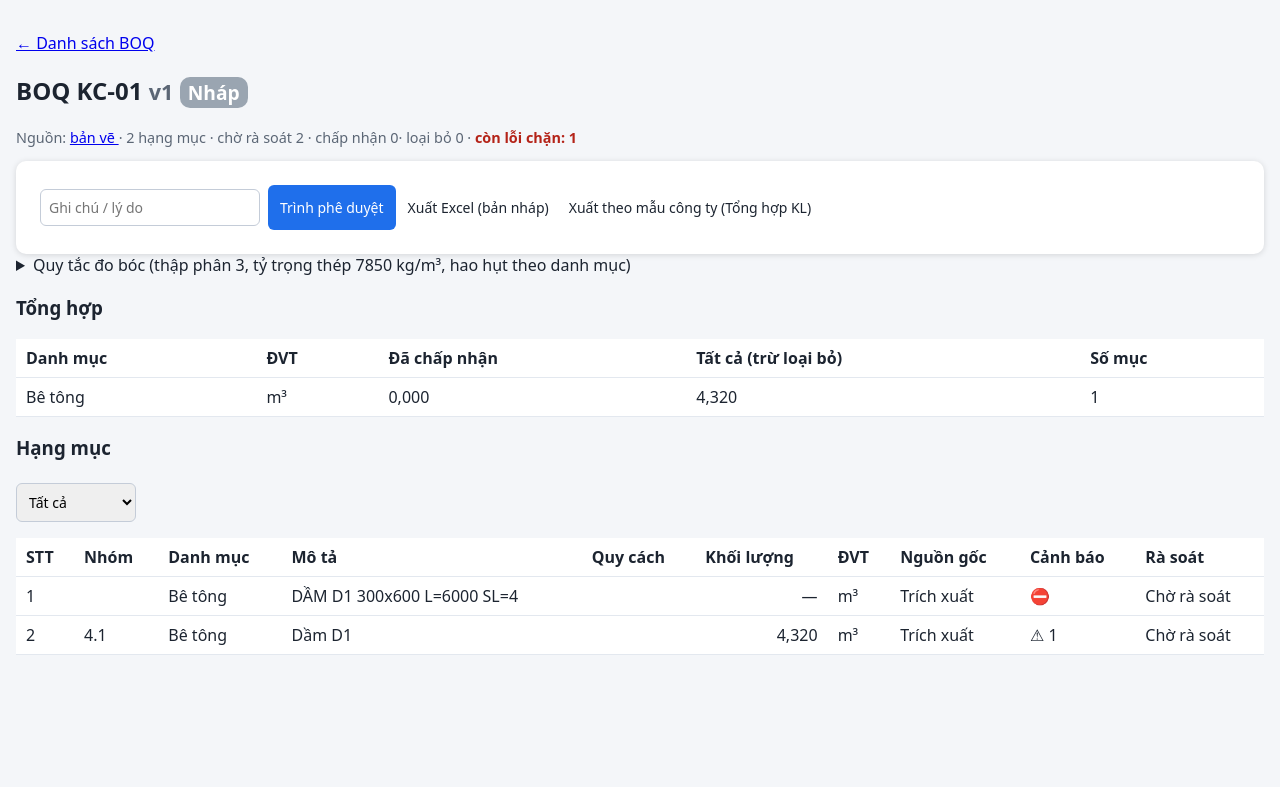
BOQ review › blocks accepting an item with blocking flags and links to the source region
Click the row named "Hạng mục 1". click: (640, 596)
box: left=16, top=577, right=1264, bottom=616
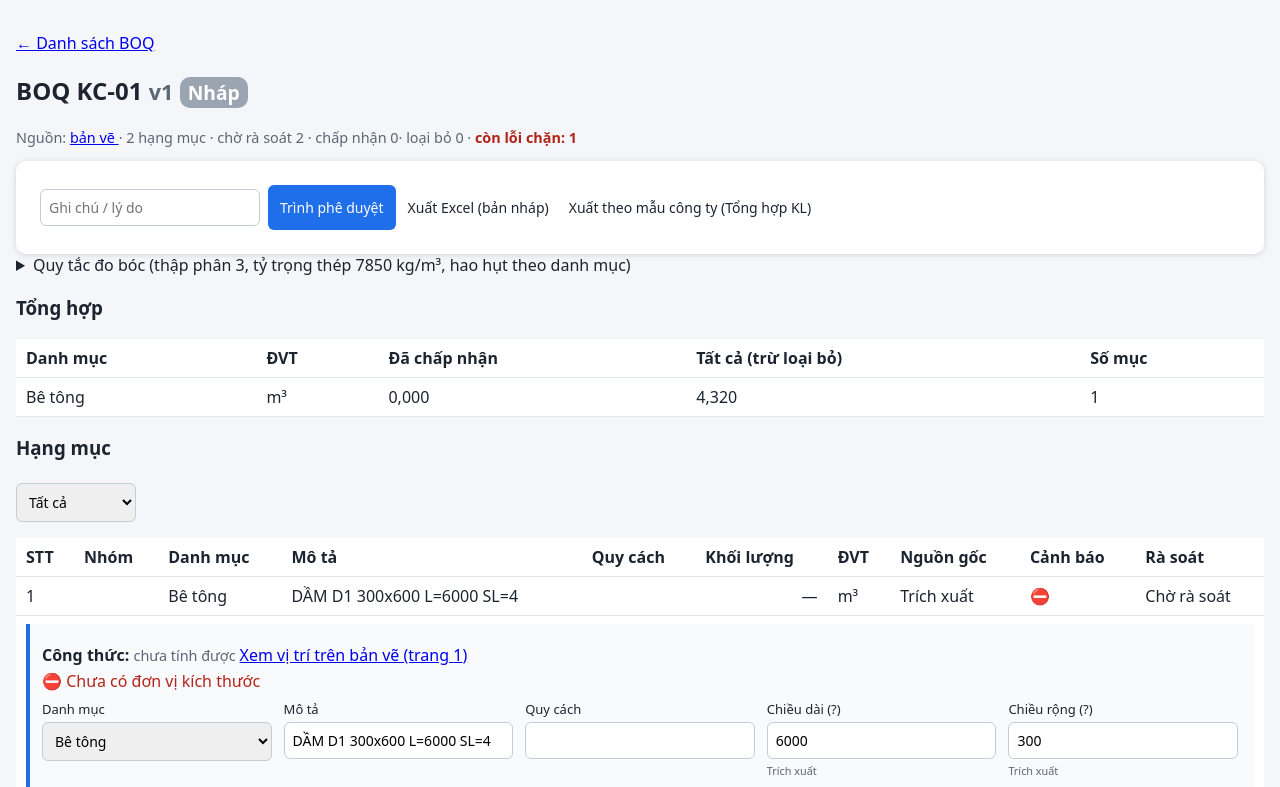
expect the list item "⛔ Chưa có đơn vị kích thước" is shown: met, box left=42, top=670, right=260, bottom=692
